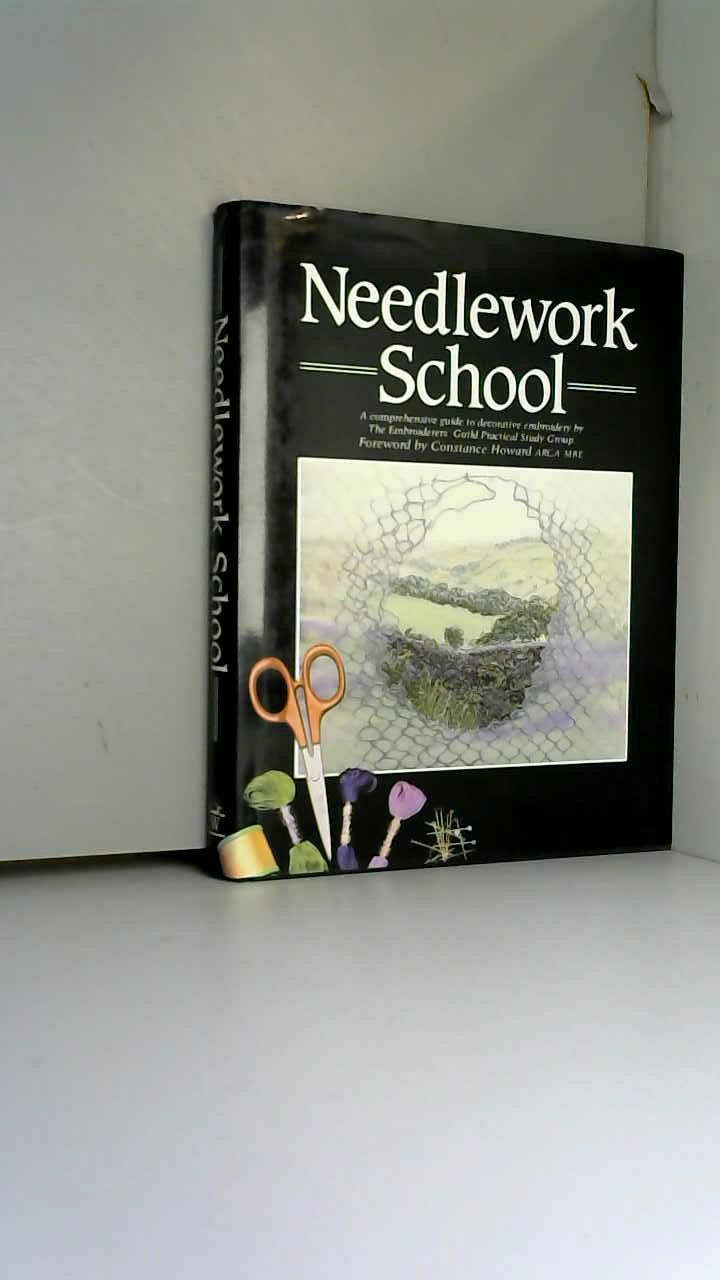book: (180, 180, 720, 912)
